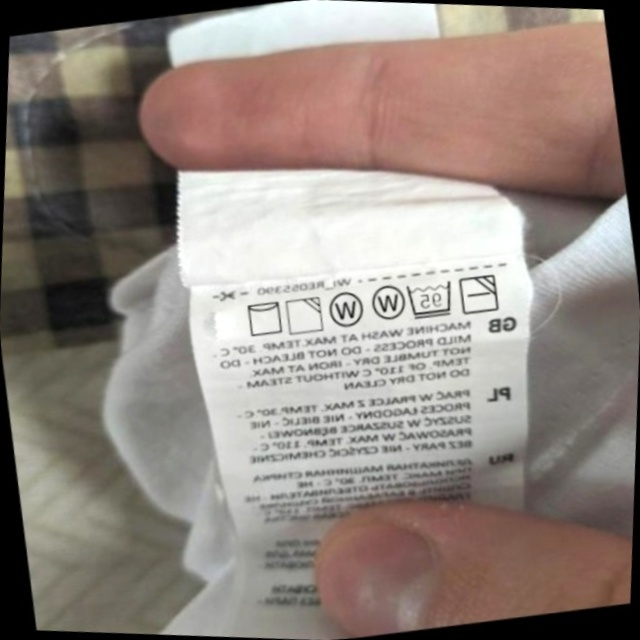95C: (400, 272, 461, 326)
dry_flat_in_shade: (453, 266, 506, 321)
line_dry: (238, 293, 290, 343)
shade_dry: (279, 290, 330, 341)
wet_clean: (363, 276, 411, 327), (322, 285, 370, 336)
